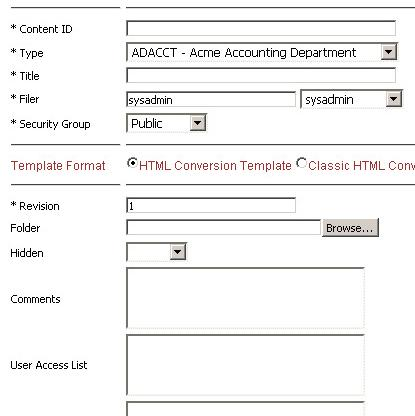button: (322, 217, 381, 238)
field: (124, 265, 367, 329), (125, 334, 364, 397), (125, 17, 398, 38), (126, 41, 398, 61), (122, 66, 397, 84), (124, 216, 322, 236), (123, 196, 297, 214), (123, 91, 297, 108), (298, 88, 404, 108), (124, 112, 207, 134), (125, 241, 187, 263)
field_with_label: (11, 15, 401, 40), (11, 38, 399, 62), (11, 62, 399, 85), (11, 87, 300, 110), (12, 112, 208, 136)
radio: (123, 156, 143, 170), (294, 155, 309, 170)
radio_with_label: (12, 264, 368, 331), (9, 332, 365, 399), (9, 215, 321, 238), (5, 194, 299, 216), (9, 240, 187, 264), (120, 154, 292, 173)
